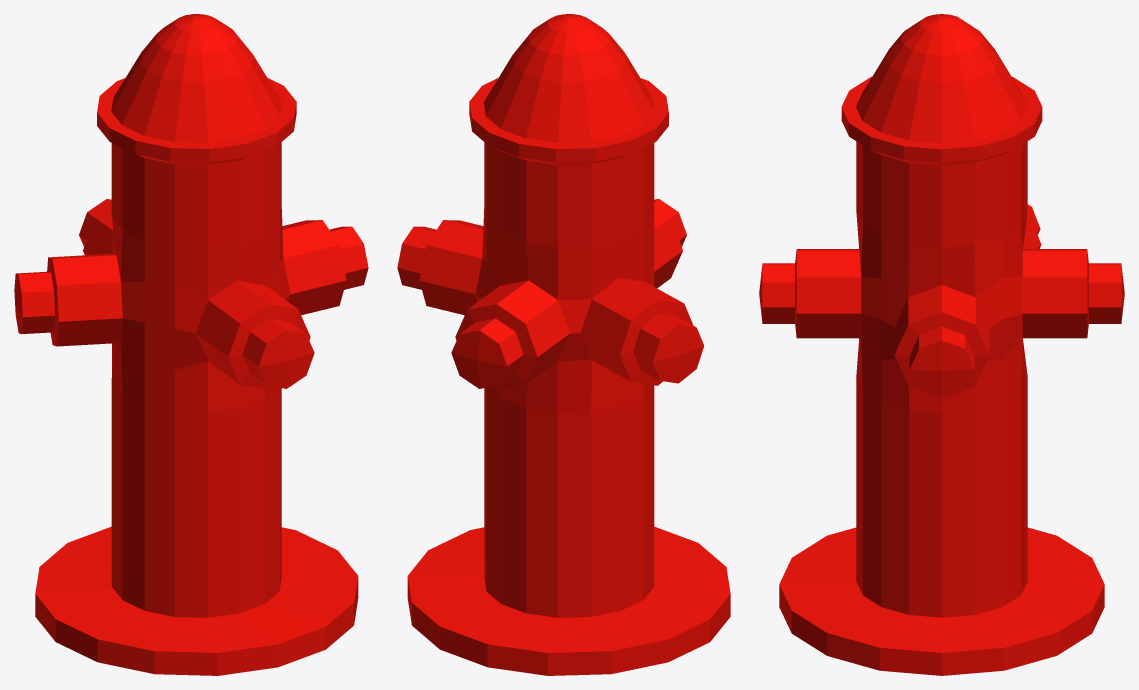
Rendered from FireHydrant.fbx.
3 views of the same model, side by side, from view 1: azimuth 30°, elevation 25°; view 2: azimuth 150°, elevation 25°; view 3: azimuth 270°, elevation 25° (orthographic).
Parts seen in each view (by area): view 1: Cylinder; view 2: Cylinder; view 3: Cylinder.
Boxes of the visible parts, x1=… form: Cylinder: x1=14, y1=14, x2=368, y2=675; Cylinder: x1=397, y1=14, x2=730, y2=675; Cylinder: x1=759, y1=14, x2=1124, y2=675.
Size of the model in its own units: 94.83 by 171 by 96.05.
